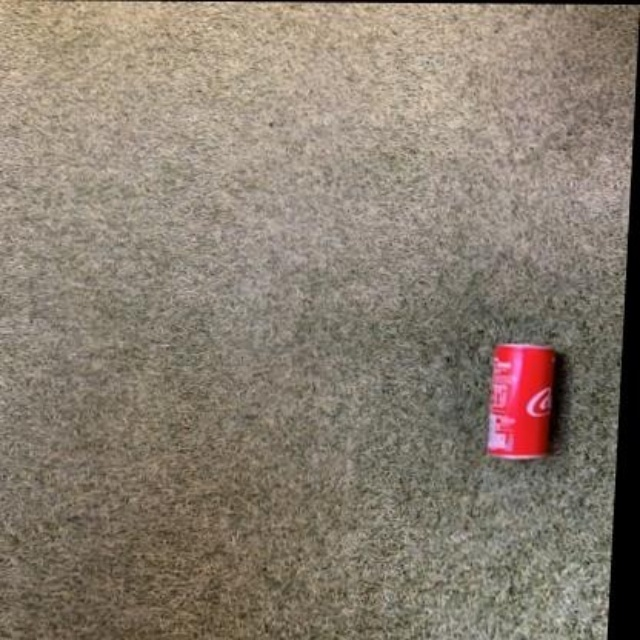trash: (486, 345, 554, 457)
